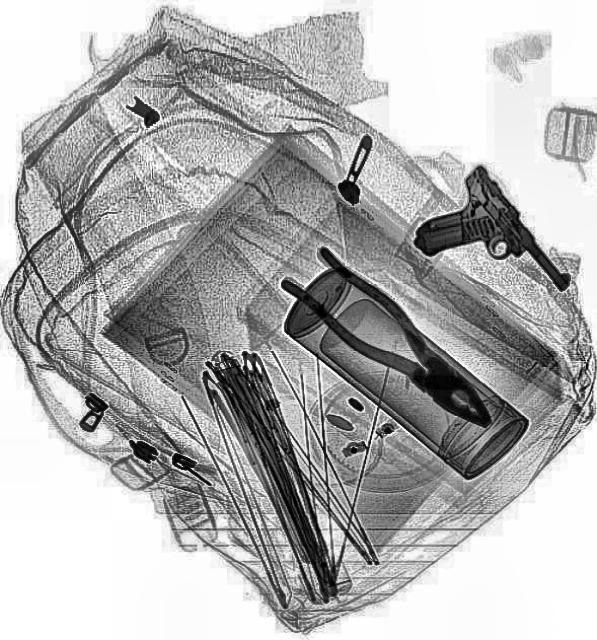Gun: (399, 162, 579, 342)
Pliers: (276, 234, 510, 448)
